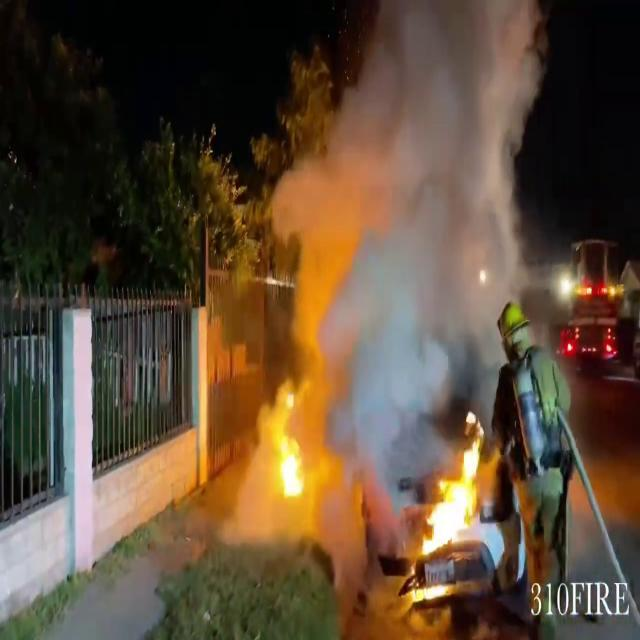Fire: (404, 413, 490, 580), (271, 426, 309, 500)
Smoke: (265, 0, 559, 436)
